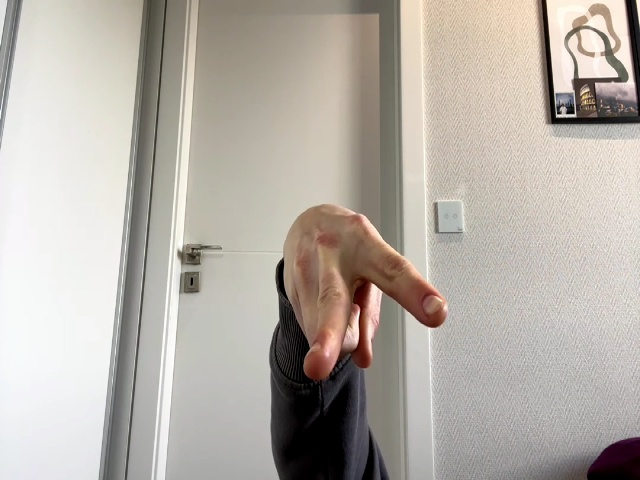U: (283, 204, 449, 379)
